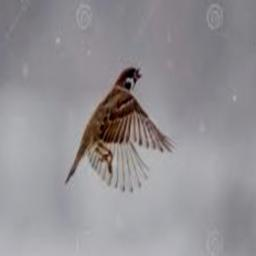Sparrow: (65, 66, 177, 192)
